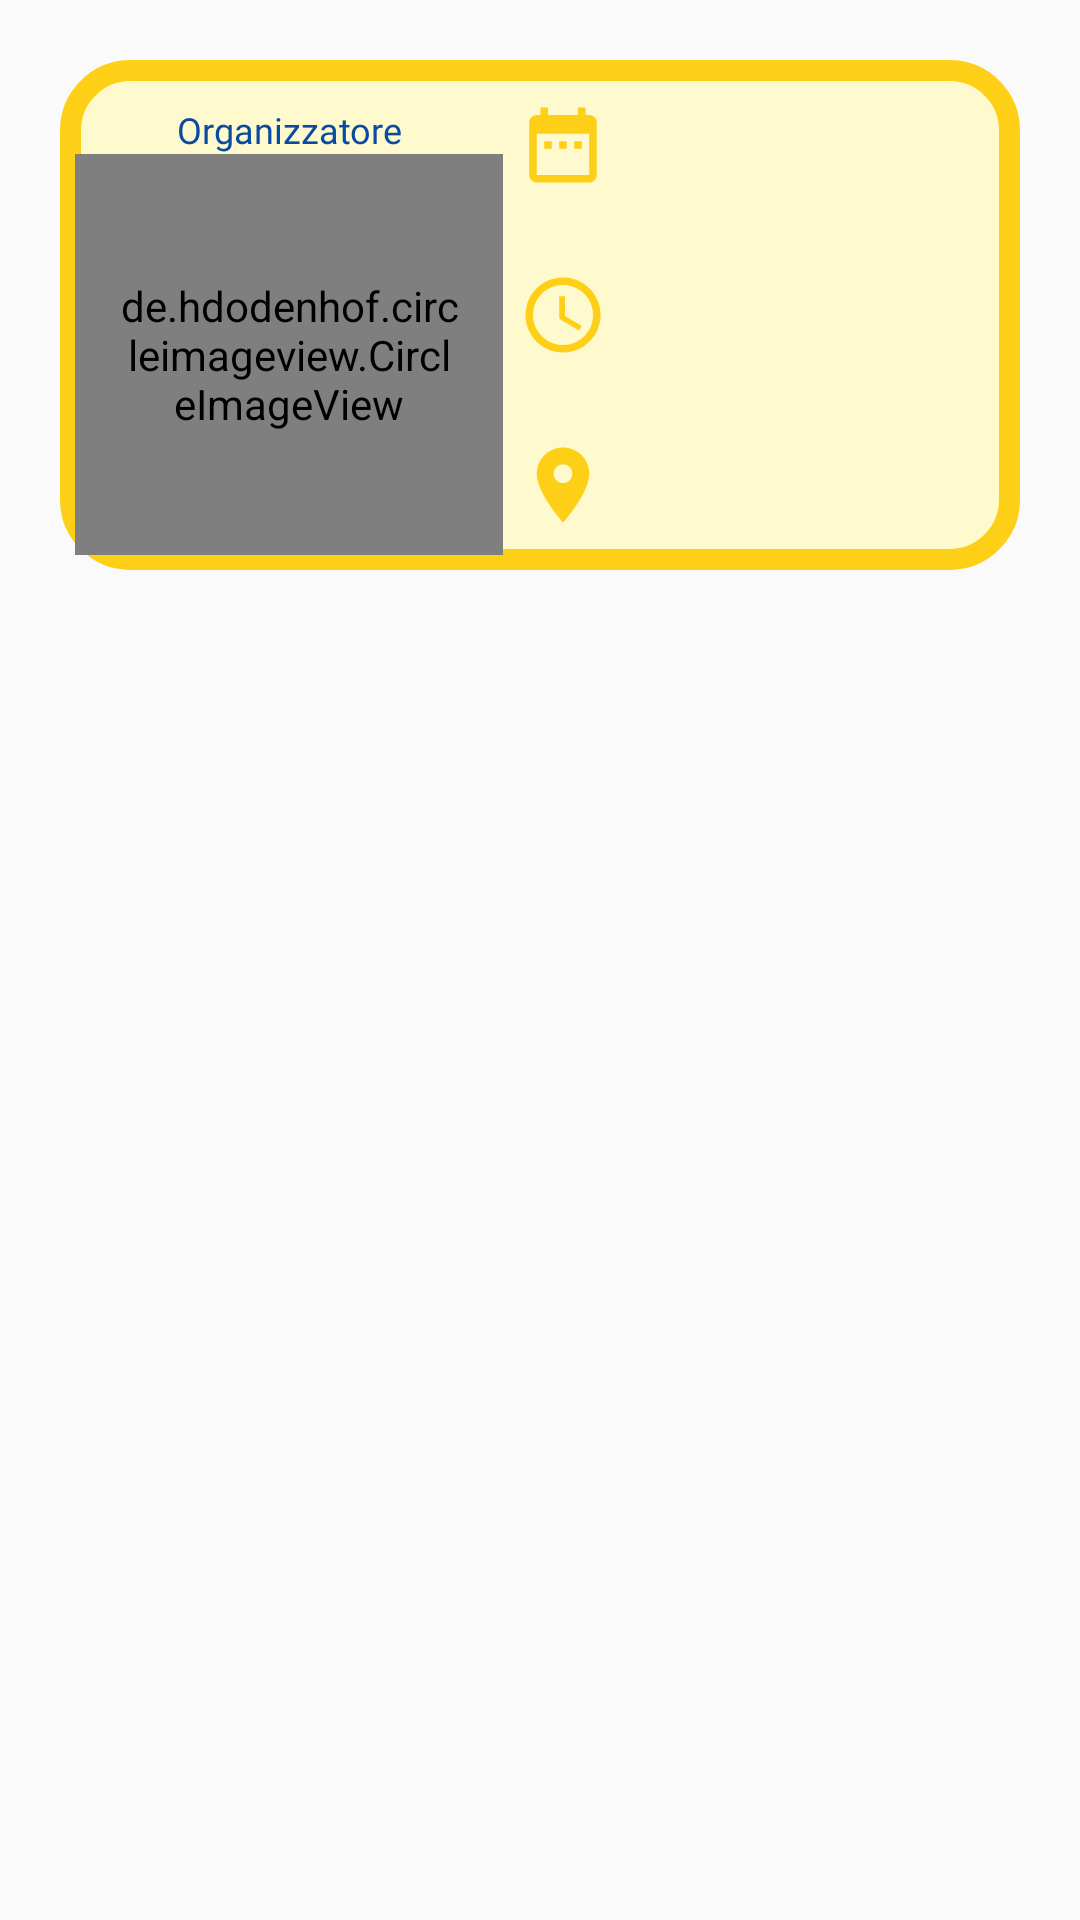

Point at icon controls on the screen. Image size 1080 × 1920, points as (x=x, y=y).
access time: (x=563, y=315)
date range: (x=563, y=145)
place: (x=563, y=484)
